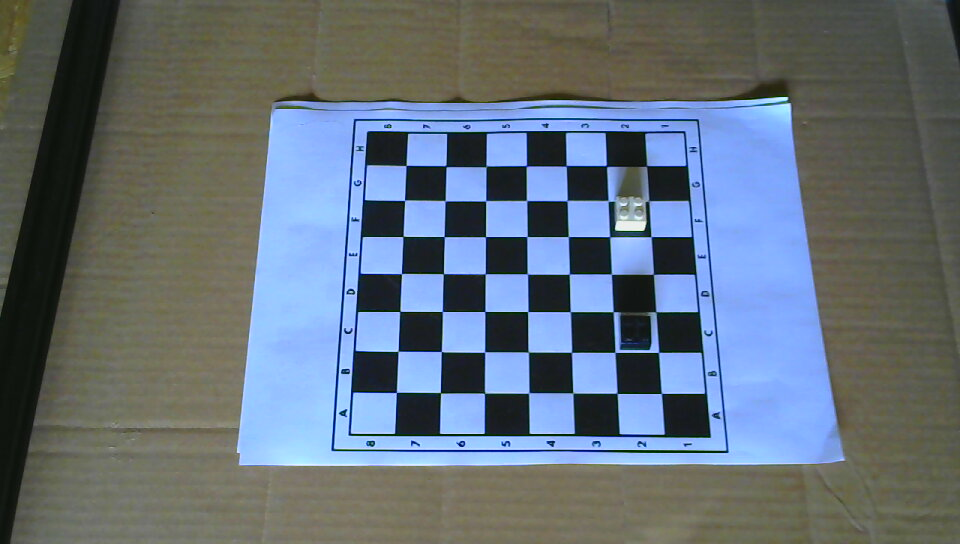bp: (619, 312, 654, 351)
wp: (612, 194, 647, 233)
